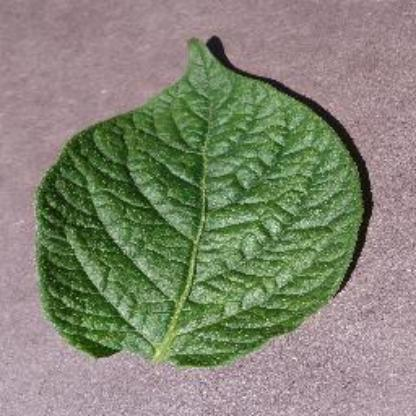Healthy-plant: (28, 28, 372, 378)
